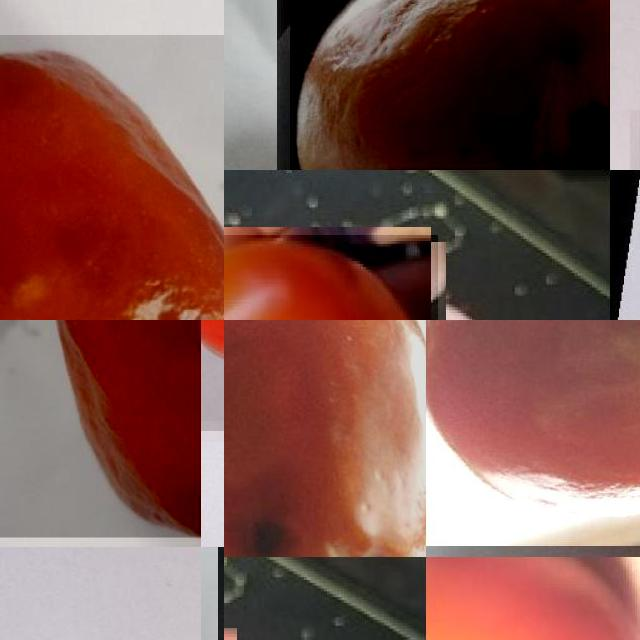Fresh Tomato: (224, 234, 438, 320), (426, 557, 640, 640)
Rotten Tomato: (0, 35, 224, 320), (290, 0, 610, 170), (426, 320, 640, 546), (224, 320, 426, 557), (0, 320, 201, 537)
